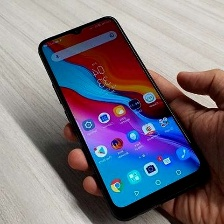phone: (33, 13, 214, 224)
